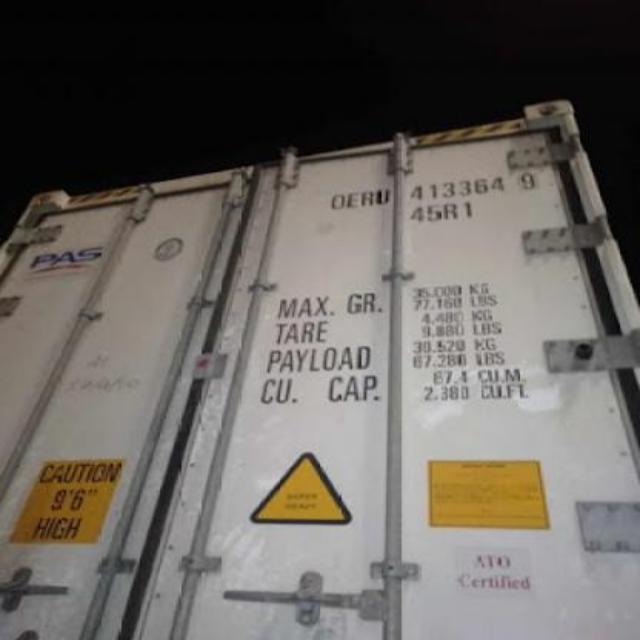1: (426, 178, 439, 200)
3: (456, 176, 472, 198), (440, 180, 456, 200)
4: (492, 172, 512, 200), (408, 180, 424, 202)
6: (472, 172, 490, 202)
9: (512, 169, 538, 195)
E: (348, 188, 360, 212)
O: (328, 189, 344, 213)
R: (360, 188, 376, 215)
U: (374, 184, 390, 208)
